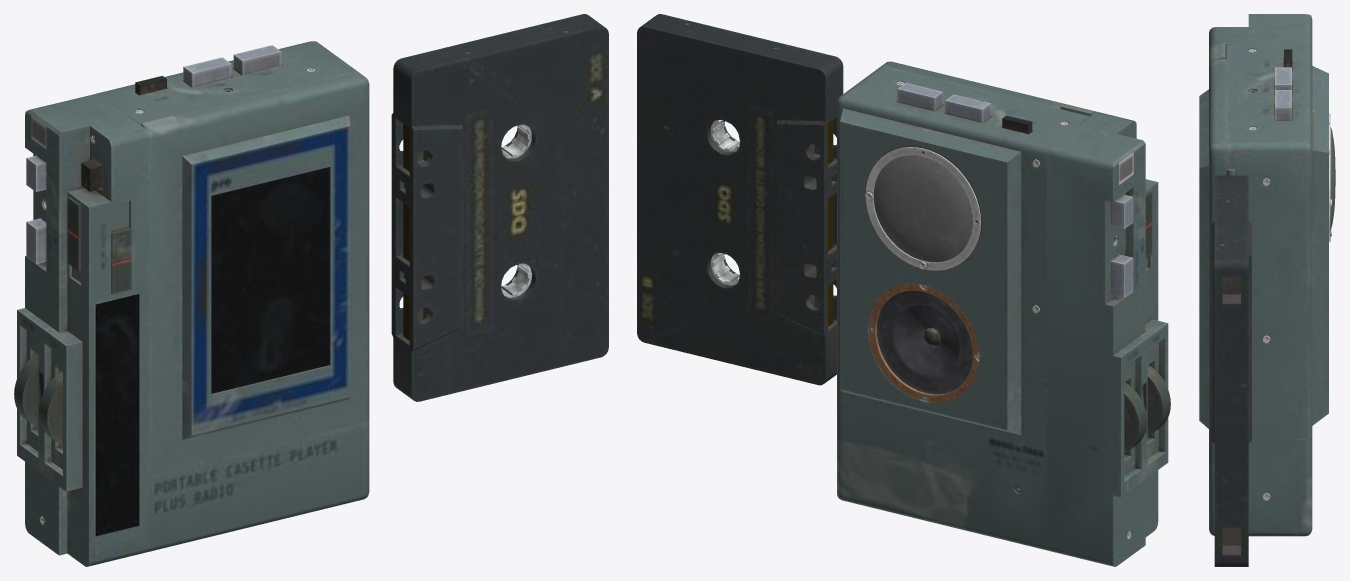
Rendered from portable_cassette_player.glb.
3 renders of one model, left to right at view 1: azimuth 30°, elevation 25°; view 2: azimuth 150°, elevation 25°; view 3: azimuth 270°, elevation 25°, orthographic. The views are drawn at different scales.
Visible parts, largest first — view 1: portable_cassette_player, portable_cassette_player_lid, portable_cassette_player_casette; view 2: portable_cassette_player, portable_cassette_player_casette, portable_cassette_player_lid; view 3: portable_cassette_player, portable_cassette_player_casette, portable_cassette_player_lid.
Part boxes in pixels (x1,y1,x2,y2): portable_cassette_player: (14, 41, 369, 566); portable_cassette_player_lid: (141, 72, 369, 476); portable_cassette_player_casette: (391, 14, 608, 401); portable_cassette_player: (837, 66, 1170, 566); portable_cassette_player_casette: (637, 14, 843, 385); portable_cassette_player_lid: (881, 61, 1097, 116); portable_cassette_player: (1209, 14, 1335, 536); portable_cassette_player_casette: (1211, 175, 1251, 566); portable_cassette_player_lid: (1199, 42, 1235, 466).
Size of the model in its own units: 0.1723 by 0.1303 by 0.0397.
2 materials, 2 textured.
